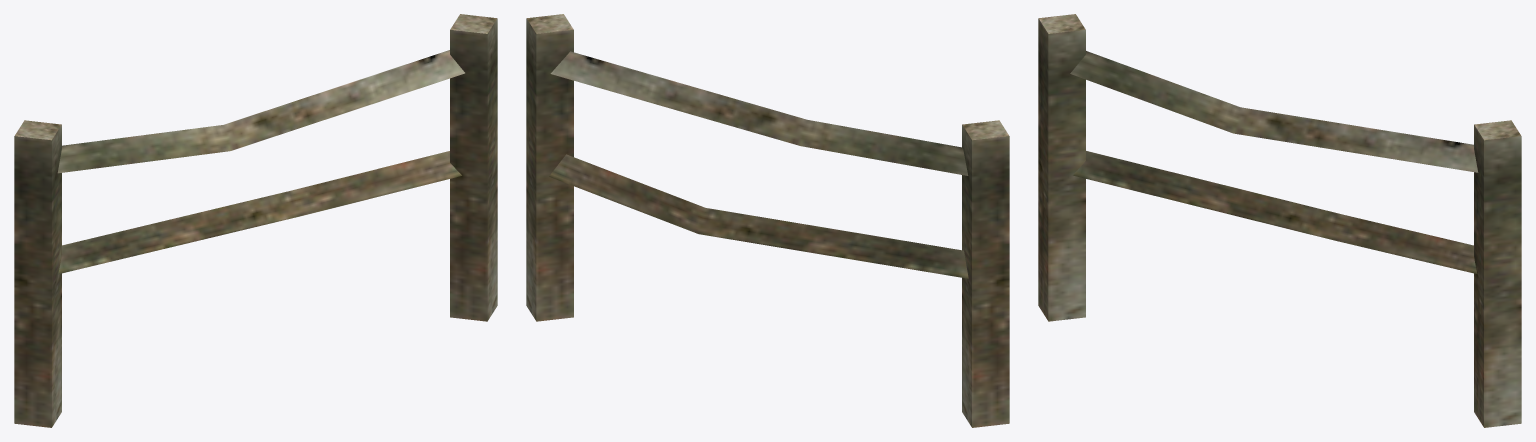
File: Fence01.glb
3 renders of one model, left to right at view 1: azimuth 30°, elevation 25°; view 2: azimuth 150°, elevation 25°; view 3: azimuth 330°, elevation 25°, orthographic.
Visible parts, largest first — view 1: Fence01; view 2: Fence01; view 3: Fence01.
Part boxes in pixels (bbox=[...]): Fence01: bbox=[14, 14, 497, 427]; Fence01: bbox=[526, 14, 1009, 427]; Fence01: bbox=[1038, 14, 1521, 427].
Bounding box in the file's own units: 1.78 × 1.01 × 0.2101.
Materials: 1 (1 with a texture image).
